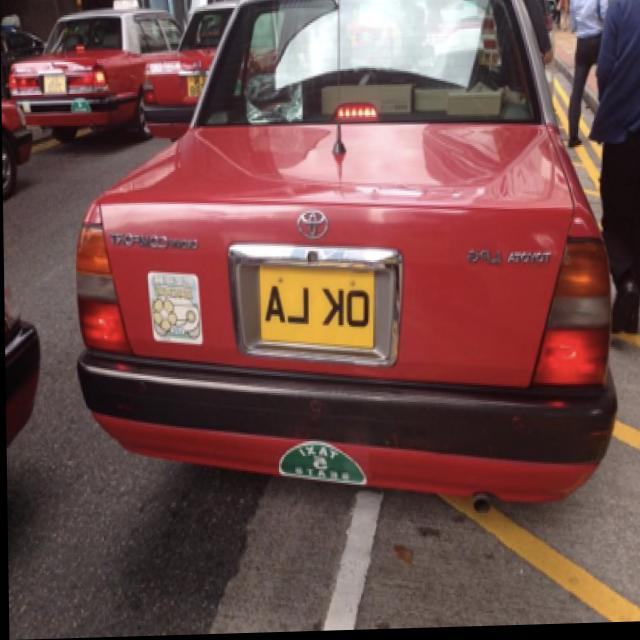licence: (259, 271, 378, 346)
